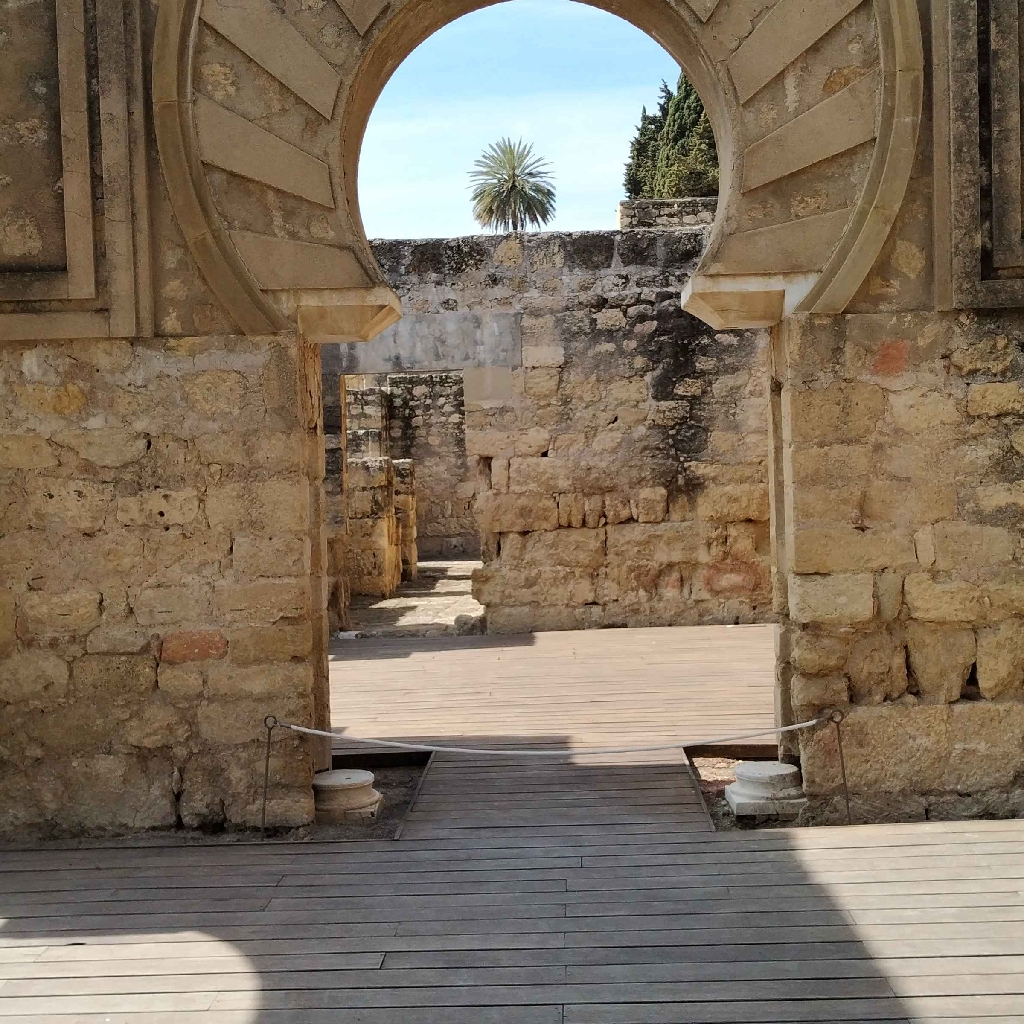arco-herradura: (298, 0, 777, 372)
